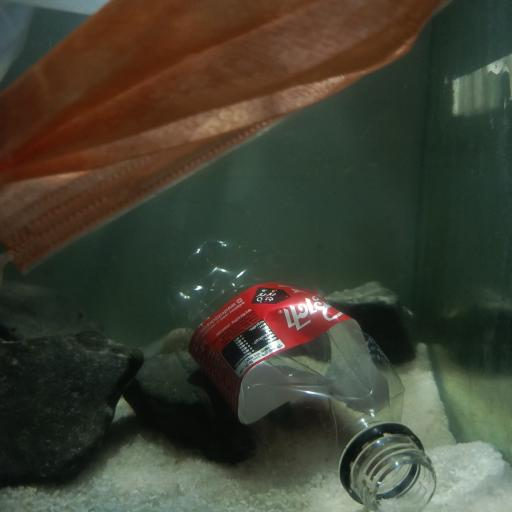mask: (4, 1, 458, 272)
plastic_bottle: (172, 234, 438, 508)
